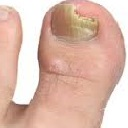Nail Fungal Infection: (66, 2, 102, 30)
